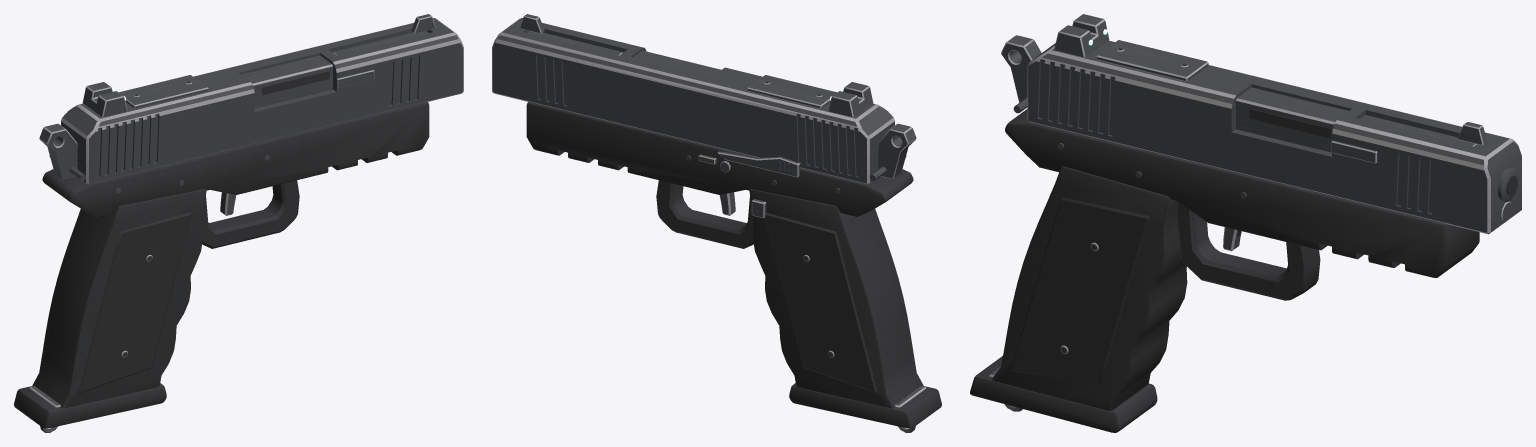
File: w_pistol.glb
The picture shows the model from 3 angles, left to right: view 1: azimuth 30°, elevation 25°; view 2: azimuth 150°, elevation 25°; view 3: azimuth 330°, elevation 25°; orthographic projection. The views are drawn at different scales.
Visible parts, largest first — view 1: W_pistol; view 2: W_pistol; view 3: W_pistol.
Boxes of the visible parts, <box> form: W_pistol: <box>14,14,463,432</box>; W_pistol: <box>492,14,941,432</box>; W_pistol: <box>970,14,1521,432</box>.
Bounding box in the file's own units: 0.2296 × 0.1687 × 0.033.
6 materials, 3 textured.
